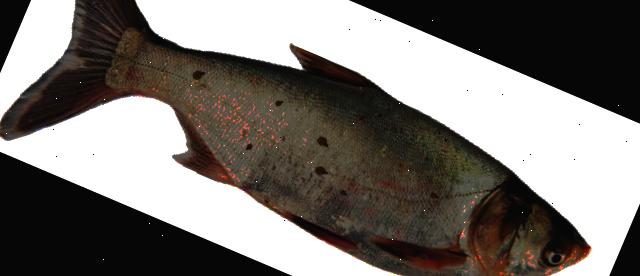Parasitic Disease: (0, 0, 589, 276)
